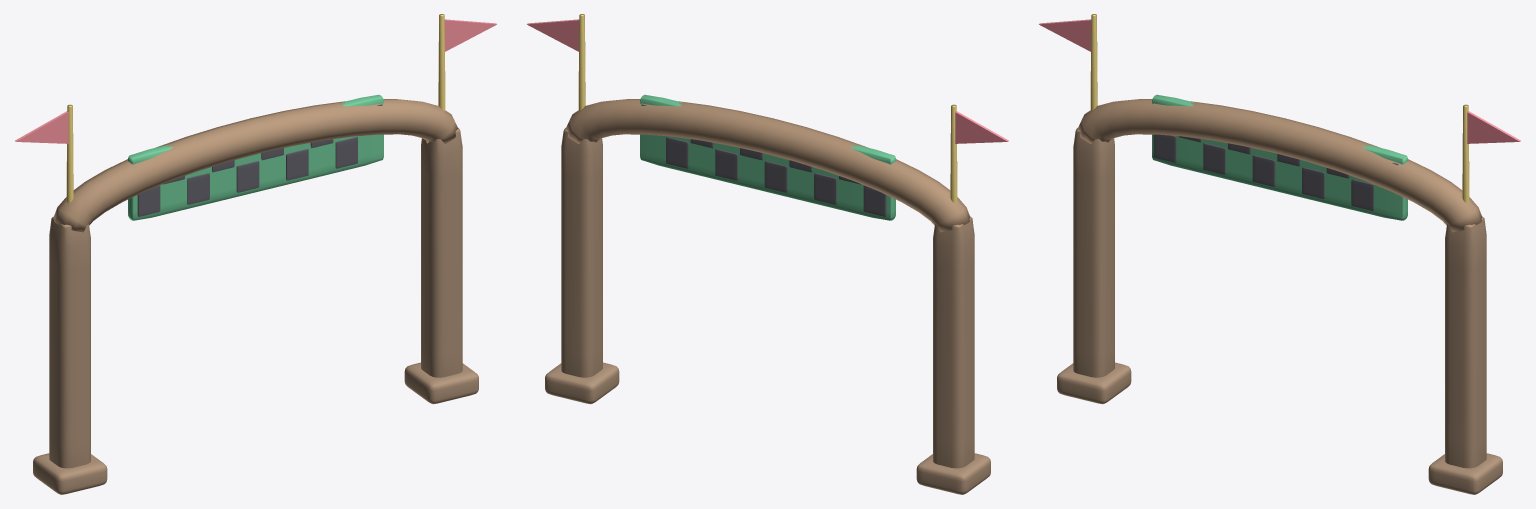
The model's file is DiceDashArchFinish.glb.
3 renders of one model, left to right at view 1: azimuth 30°, elevation 25°; view 2: azimuth 150°, elevation 25°; view 3: azimuth 330°, elevation 25°, orthographic.
Visible parts, largest first — view 1: Posts, Beam, Banner, Checks, Flags, Poles; view 2: Posts, Beam, Banner, Checks, Flags, Poles; view 3: Posts, Beam, Banner, Checks, Flags, Poles.
Boxes of the visible parts, x1,y1,x2,y2 form: Posts: (33,128,478,494); Beam: (53,99,458,232); Banner: (128,94,383,220); Checks: (137,104,382,216); Flags: (15,19,496,143); Poles: (66,14,445,202); Posts: (545,128,990,494); Beam: (566,99,970,232); Banner: (640,94,895,220); Checks: (641,104,886,216); Flags: (527,19,1008,143); Poles: (578,14,957,202); Posts: (1057,128,1502,494); Beam: (1078,99,1482,232); Banner: (1152,94,1407,220); Checks: (1153,134,1398,210); Flags: (1039,19,1520,143); Poles: (1090,14,1469,202).
Bounding box in the file's own units: 22.8 × 17 × 2.4.
